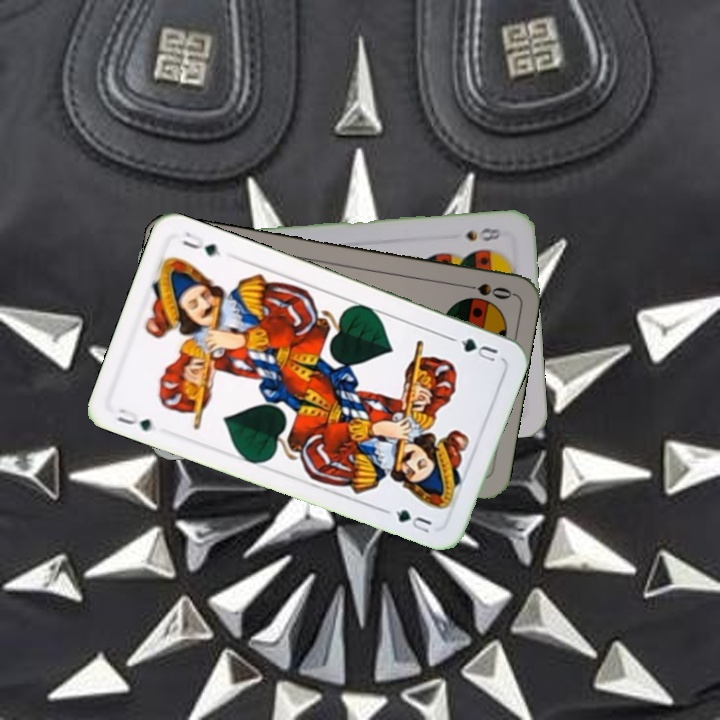GU: (447, 333, 501, 365), (113, 404, 155, 434)
S8: (462, 224, 503, 244)
SO: (456, 279, 514, 302)
